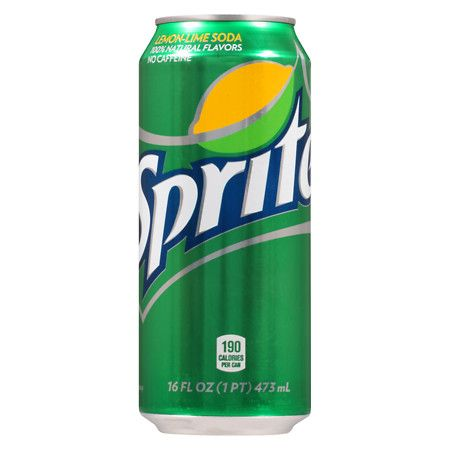sprite_can: (136, 15, 314, 438)
